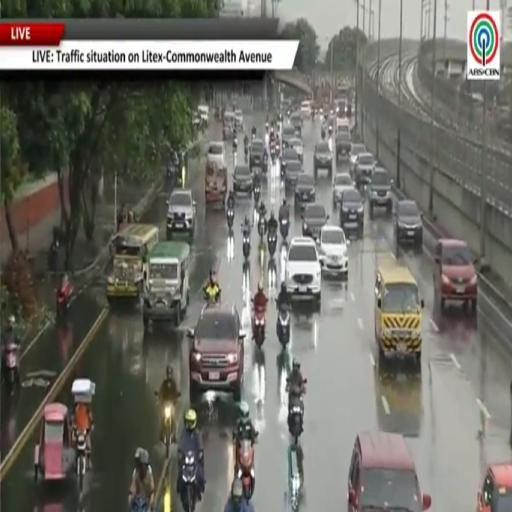car: (348, 431, 431, 511), (188, 303, 245, 403), (434, 239, 477, 311), (285, 237, 321, 305), (477, 462, 511, 511), (319, 226, 348, 278), (167, 189, 196, 239), (394, 200, 422, 250), (367, 167, 392, 218), (339, 188, 363, 237), (302, 203, 329, 239), (294, 173, 315, 207), (333, 172, 354, 205), (355, 153, 375, 187), (349, 142, 366, 177), (314, 142, 332, 175), (233, 165, 252, 195), (284, 160, 304, 188), (250, 139, 267, 170), (207, 141, 226, 168), (335, 132, 351, 161), (280, 148, 301, 169), (281, 124, 296, 149), (288, 137, 303, 162), (224, 111, 235, 139), (291, 114, 302, 136), (198, 105, 209, 126), (336, 118, 350, 134), (234, 109, 243, 130), (301, 101, 311, 118), (192, 112, 201, 130)
jeepney: (107, 223, 158, 305), (143, 242, 190, 329), (205, 162, 227, 205)
motorcycle: (237, 440, 255, 501), (180, 452, 197, 511), (288, 390, 303, 443), (2, 343, 19, 387), (162, 403, 175, 458), (76, 430, 87, 492), (277, 304, 290, 348), (56, 285, 72, 317), (253, 308, 265, 348), (131, 496, 149, 511), (267, 232, 276, 258), (258, 238, 265, 269), (243, 233, 250, 260), (280, 218, 289, 239), (258, 216, 266, 239), (204, 291, 220, 302), (227, 208, 234, 230), (254, 184, 260, 204), (280, 166, 285, 186), (271, 147, 276, 166), (233, 138, 237, 154), (245, 144, 248, 163), (321, 130, 325, 140), (265, 122, 269, 132), (287, 110, 290, 118), (252, 133, 255, 140)
